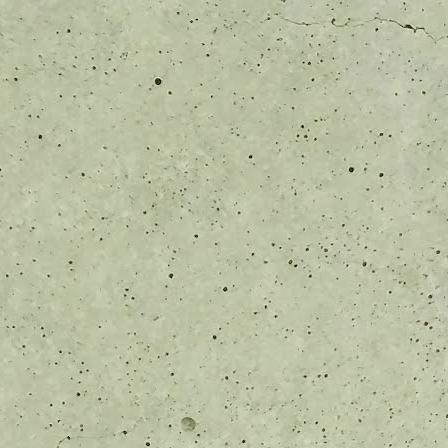crack: (272, 0, 448, 54)
spalling: (177, 415, 199, 436)
